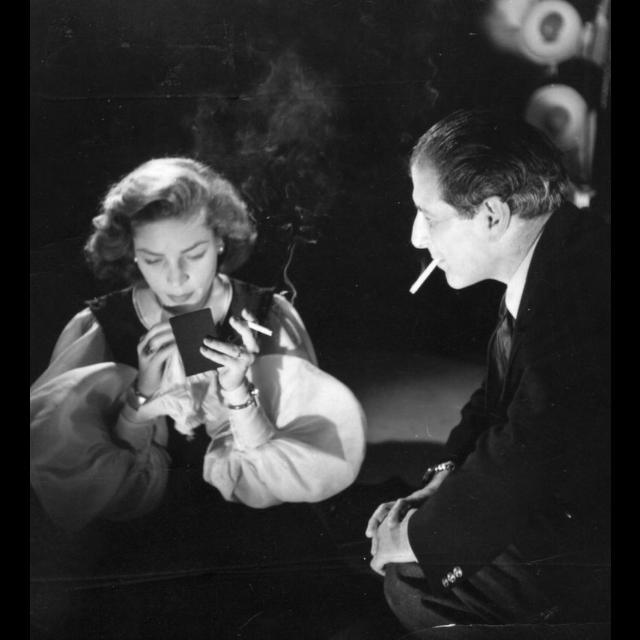rokok: (402, 256, 444, 294)
